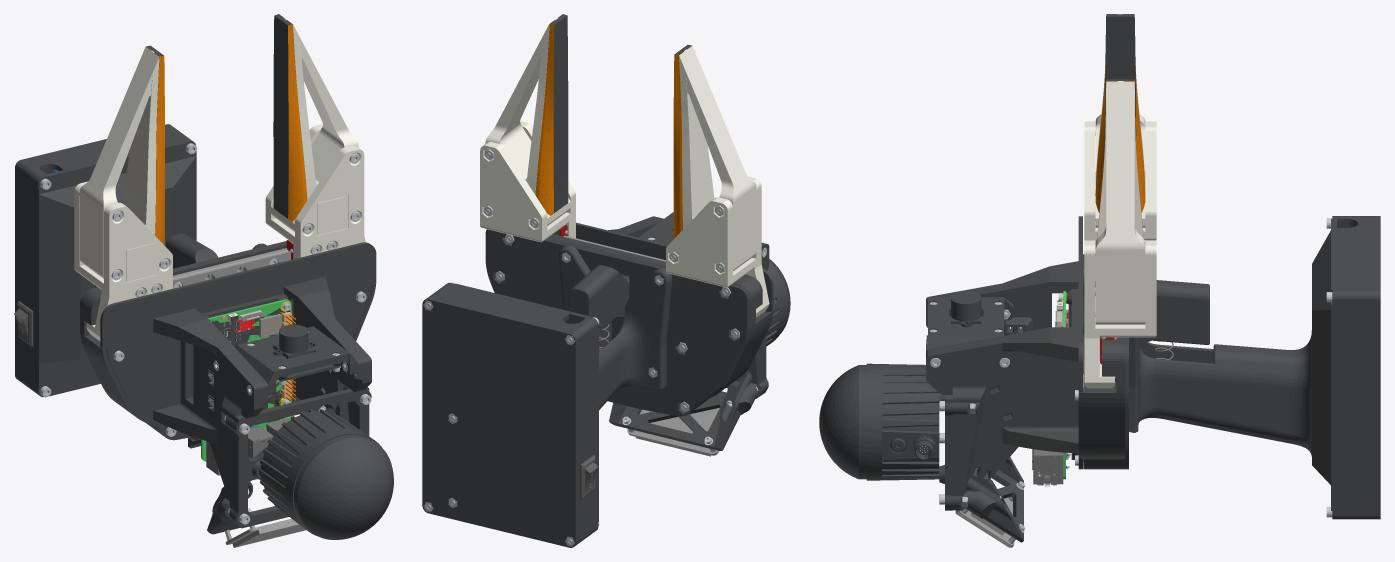
Rendered from umi-explode.glb.
3 renders of one model, left to right at view 1: azimuth 30°, elevation 25°; view 2: azimuth 150°, elevation 25°; view 3: azimuth 270°, elevation 25°, orthographic. The views are drawn at different scales.
Visible parts, largest first — view 1: G_body_top__0, G_lid__0, G_fingerL__0, G_lidar__3, G_holderL__0, G_holderR__0, G_tray__0, G_lidar__0, G_fingerR__0, G_top_plates__0, G_chassis__0, G_cam_mount__0 (+12 smaller); view 2: G_tray__0, G_chassis__0, G_fingerL__0, G_grip__0, G_holderL__0, G_holderR__0, G_fingerR__0, G_lcd_mount__0, G_body_top__0, G_fingerR__2, G_trigger__0, G_fingerR__1 (+6 smaller); view 3: G_body_top__0, G_grip__0, G_tray__0, G_fingerR__0, G_lidar__0, G_lid__0, G_chassis__0, G_lidar__3, G_holderR__0, G_trigger__0, G_holderL__0, G_cam_mount__0 (+8 smaller).
Part boxes in pixels (box(x1,y1,x2,y2)): G_body_top__0: box(100, 242, 376, 523); G_lid__0: box(36, 139, 196, 397); G_fingerL__0: box(80, 47, 159, 278); G_lidar__3: box(294, 434, 393, 539); G_holderL__0: box(74, 181, 172, 341); G_holderR__0: box(265, 124, 365, 259); G_tray__0: box(15, 124, 190, 393); G_lidar__0: box(259, 409, 381, 535); G_fingerR__0: box(271, 18, 358, 231); G_top_plates__0: box(232, 387, 371, 528); G_chassis__0: box(80, 241, 376, 434); G_cam_mount__0: box(235, 326, 357, 394); G_tray__0: box(422, 284, 596, 547); G_chassis__0: box(485, 229, 773, 416); G_fingerL__0: box(679, 46, 756, 270); G_grip__0: box(558, 245, 672, 409); G_holderL__0: box(666, 176, 769, 317); G_holderR__0: box(480, 121, 575, 242); G_fingerR__0: box(485, 18, 570, 225); G_lcd_mount__0: box(609, 381, 756, 450); G_body_top__0: box(576, 216, 773, 398); G_fingerR__2: box(550, 14, 568, 213); G_trigger__0: box(569, 265, 629, 339); G_fingerR__1: box(535, 24, 554, 215); G_body_top__0: box(926, 216, 1082, 510); G_grip__0: box(1129, 330, 1311, 456); G_tray__0: box(1337, 216, 1380, 519); G_fingerR__0: box(1095, 81, 1145, 324); G_lidar__0: box(866, 363, 939, 480); G_lid__0: box(1312, 216, 1336, 519); G_chassis__0: box(1078, 254, 1128, 469); G_lidar__3: box(819, 365, 866, 479); G_holderR__0: box(1084, 240, 1156, 388); G_trigger__0: box(1084, 280, 1209, 383); G_holderL__0: box(1084, 121, 1156, 280); G_cam_mount__0: box(926, 297, 1013, 351).
Size of the model in its own units: 172 by 278 by 294.
